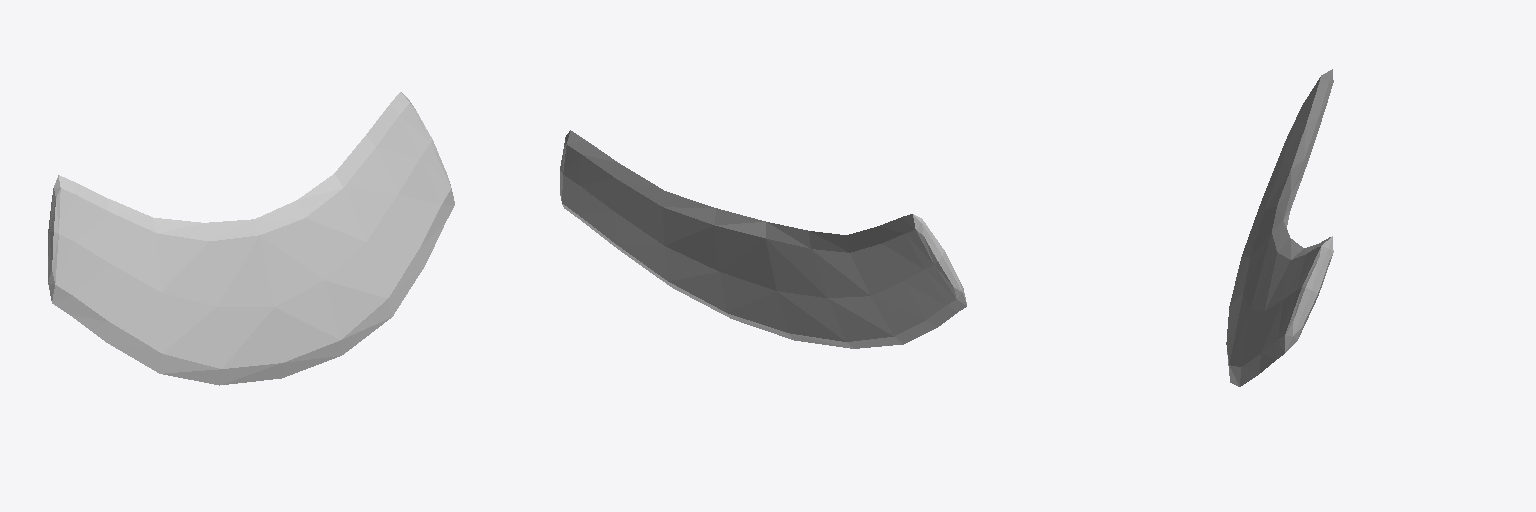
Rendered from Connective.Ligaments.Interclaviculare.obj.
The picture shows the model from 3 angles: view 1: azimuth 30°, elevation 25°; view 2: azimuth 150°, elevation 25°; view 3: azimuth 270°, elevation 25°; orthographic projection.
Parts seen in each view (by area): view 1: Connective:Ligaments:Interclaviculare_Ligaments.014; view 2: Connective:Ligaments:Interclaviculare_Ligaments.014; view 3: Connective:Ligaments:Interclaviculare_Ligaments.014.
Part boxes in pixels (x1,y1,x2,y2): Connective:Ligaments:Interclaviculare_Ligaments.014: (48, 92, 454, 385); Connective:Ligaments:Interclaviculare_Ligaments.014: (560, 130, 966, 348); Connective:Ligaments:Interclaviculare_Ligaments.014: (1226, 69, 1333, 386).
Bounding box in the file's own units: 0.1817 × 0.089 × 0.0418.